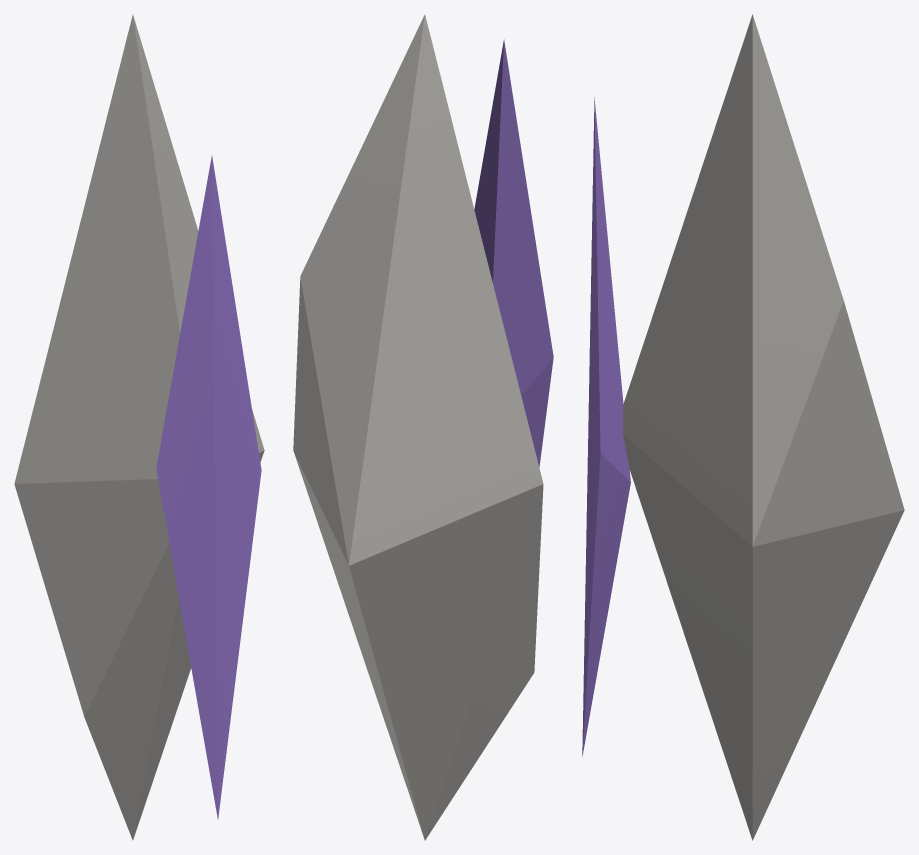
Rendered from portal_shard.glb.
The picture shows the model from 3 angles, left to right: view 1: azimuth 30°, elevation 25°; view 2: azimuth 150°, elevation 25°; view 3: azimuth 270°, elevation 25°; orthographic projection.
Parts seen in each view (by area): view 1: edge; view 2: edge; view 3: edge.
Part boxes in pixels (box(x1,y1,x2,y2)): edge: box(14, 14, 264, 840); edge: box(293, 14, 553, 840); edge: box(582, 14, 904, 840).
Size of the model in its own units: 0.095 by 0.3 by 0.106.
